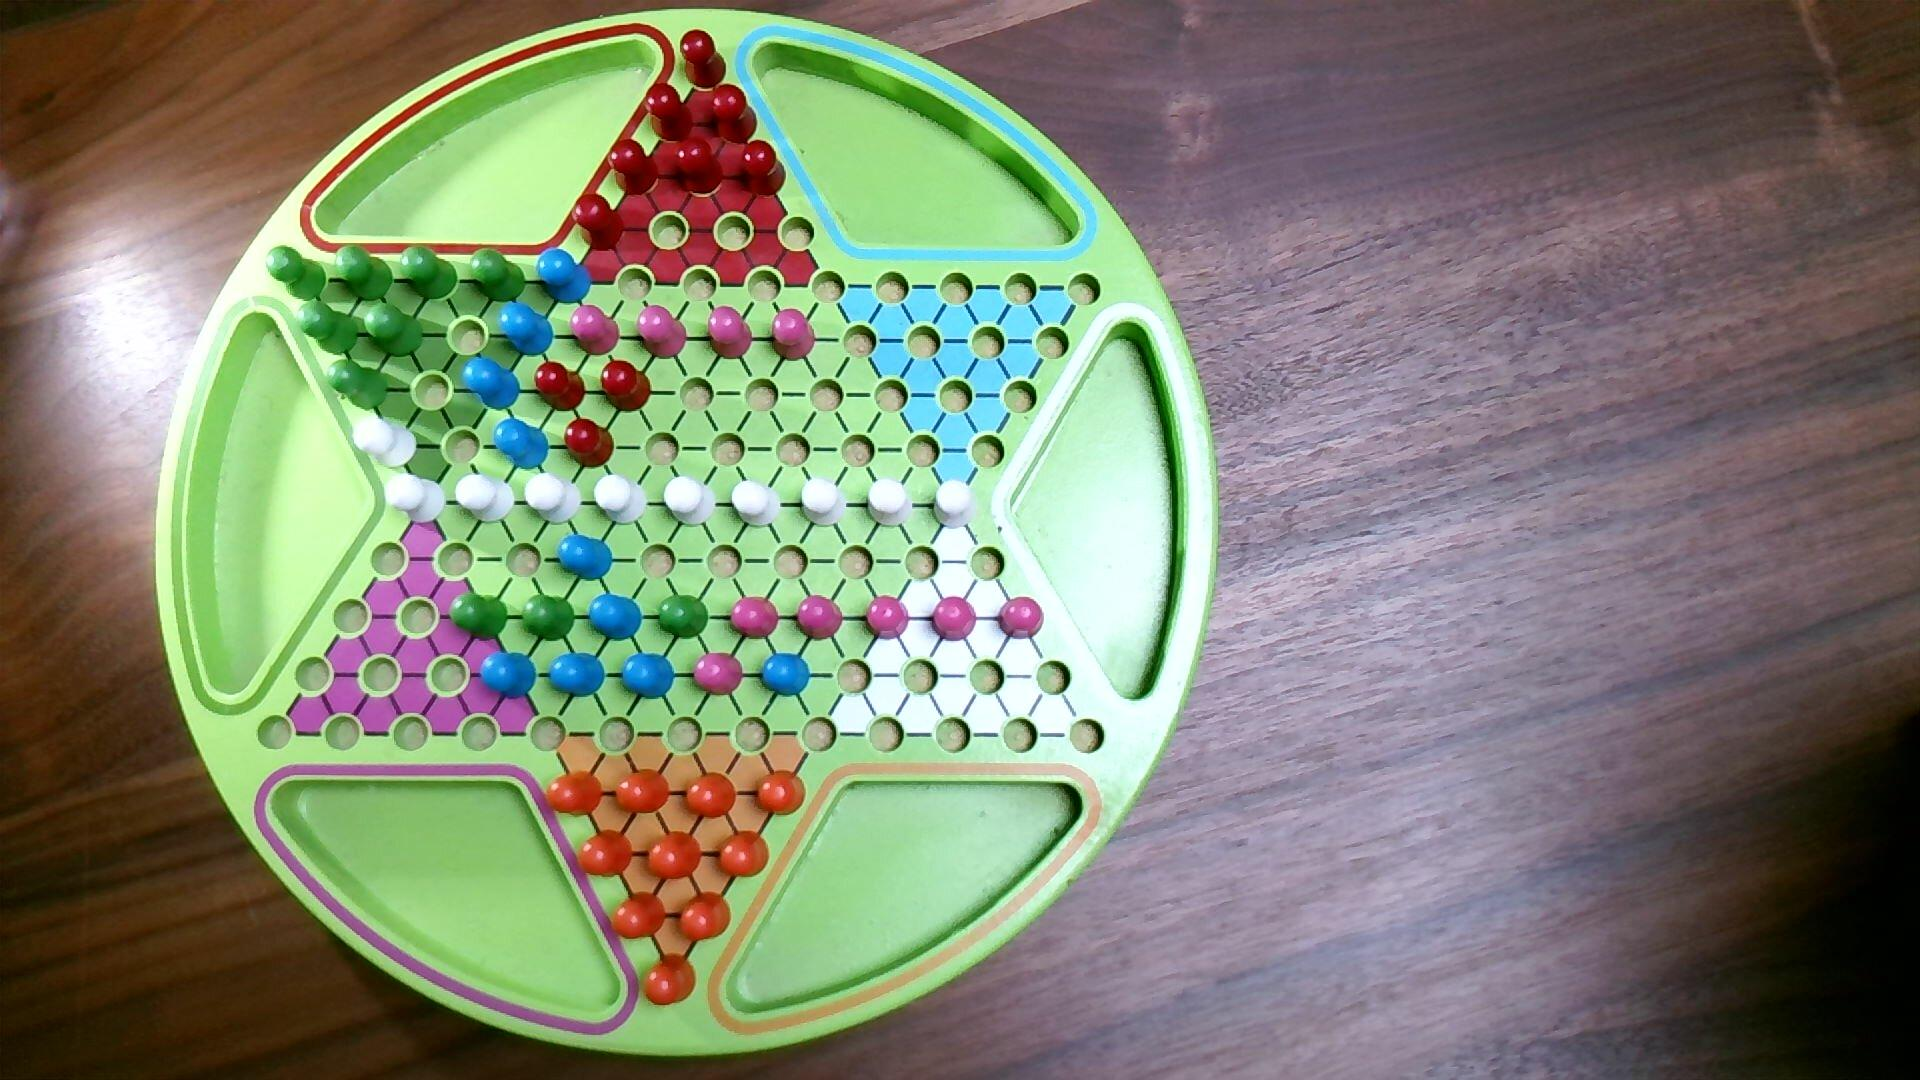B: (535, 247, 595, 306), (498, 299, 556, 359), (463, 356, 524, 413), (492, 417, 551, 473), (477, 650, 539, 702), (556, 533, 615, 583), (549, 651, 608, 700), (620, 651, 676, 702), (588, 593, 644, 644), (760, 651, 812, 699)
G: (295, 297, 363, 357), (334, 241, 396, 303), (265, 244, 328, 305), (363, 301, 426, 360), (400, 243, 460, 302), (327, 357, 390, 413), (448, 589, 512, 644), (468, 248, 527, 305), (521, 593, 578, 644), (657, 593, 712, 642)
O: (644, 951, 698, 1010), (645, 829, 705, 882), (608, 890, 669, 942), (543, 769, 605, 819), (676, 890, 735, 943), (576, 828, 636, 880), (615, 767, 673, 818), (683, 771, 738, 822), (717, 829, 771, 880), (754, 769, 808, 819)
R: (571, 193, 626, 255), (642, 82, 696, 145), (674, 133, 727, 196), (608, 137, 661, 199), (708, 83, 760, 146), (679, 28, 729, 91), (600, 357, 653, 415), (740, 138, 789, 199), (534, 360, 588, 414), (564, 415, 616, 472)
R2: (637, 303, 688, 363), (570, 303, 622, 359), (705, 305, 756, 363), (769, 307, 818, 365), (795, 593, 847, 644), (928, 595, 978, 645), (692, 651, 746, 698), (729, 595, 781, 642), (864, 593, 913, 642), (997, 595, 1046, 642)
W: (352, 415, 419, 471), (524, 471, 584, 527), (385, 473, 448, 527), (454, 473, 518, 526), (593, 473, 649, 527), (663, 476, 717, 529), (731, 479, 783, 530), (865, 477, 915, 530), (800, 477, 849, 529), (932, 479, 977, 530)
